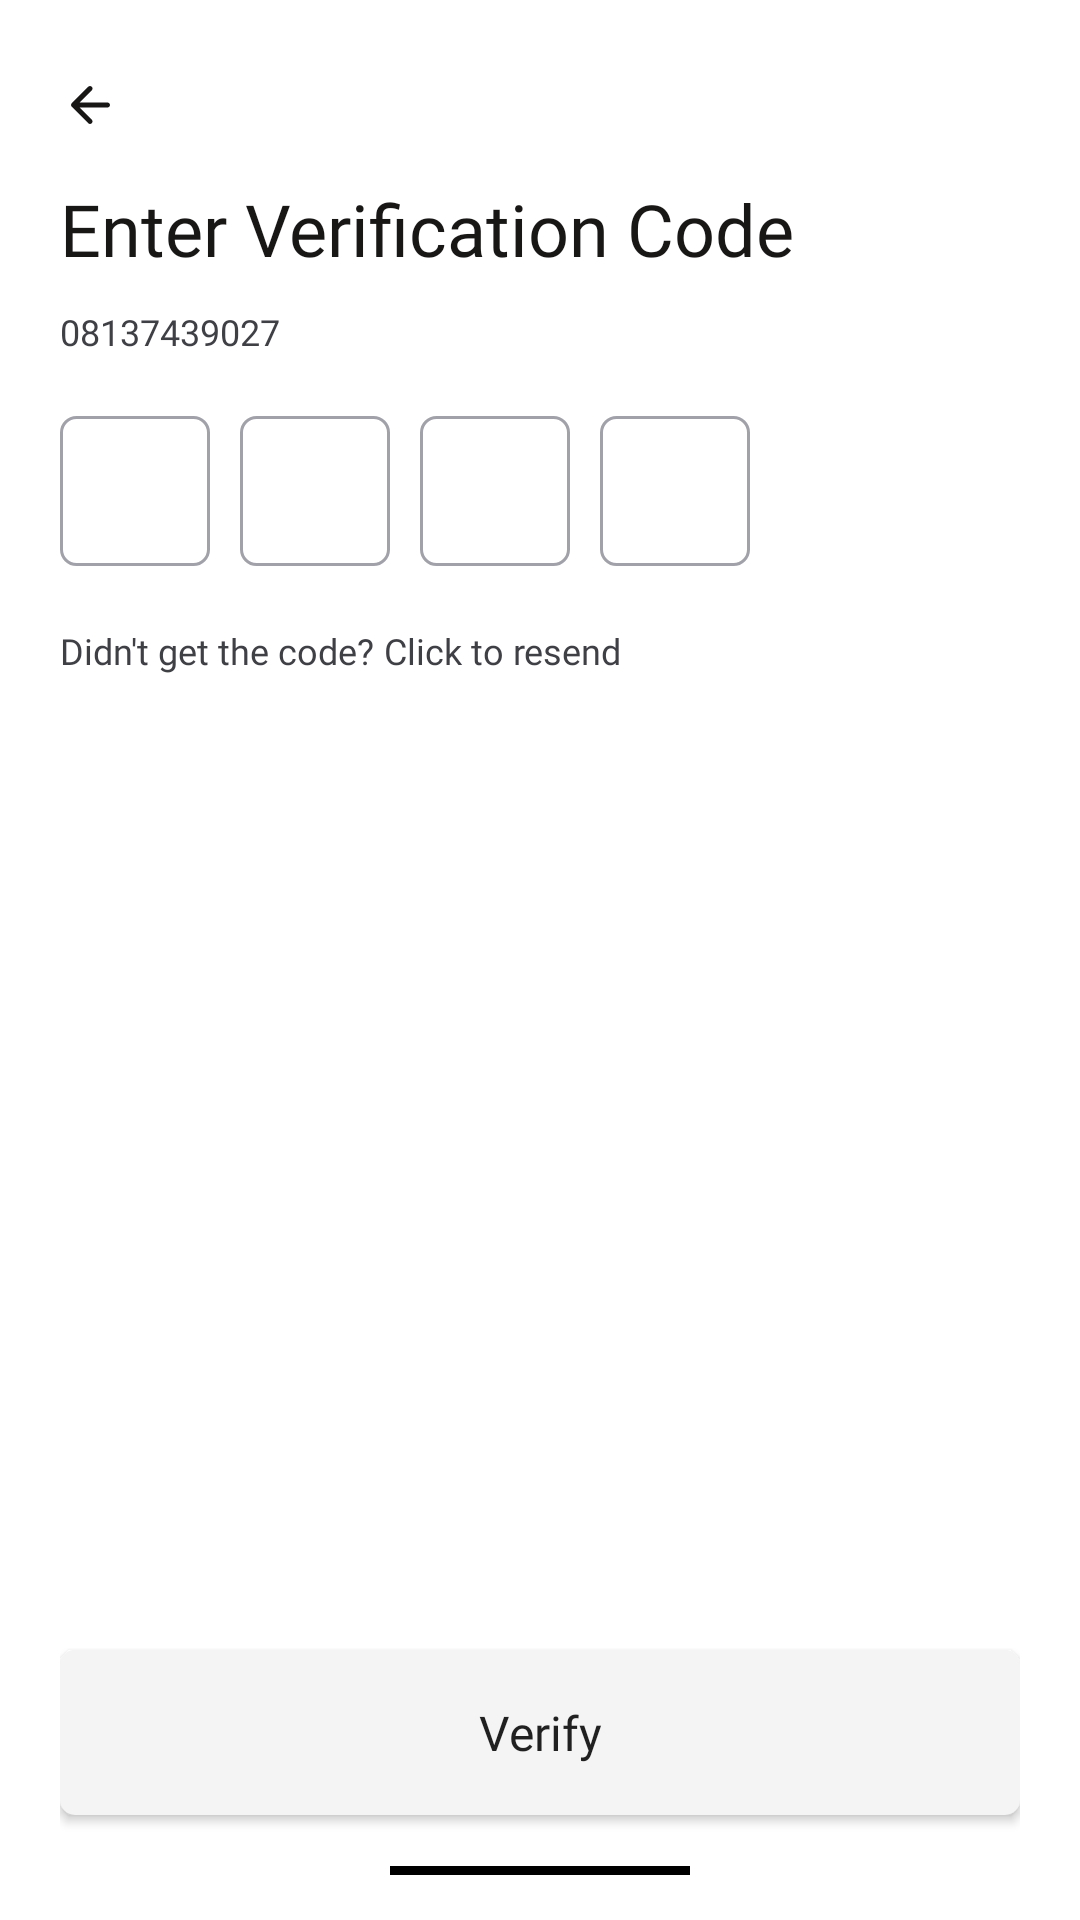

Locate icon controls on the screen. Image size 1080×1920, boxes as [x1=x1, y1=y1, x2=x2, y2=y2].
arrow left: [x1=71, y1=86, x2=110, y2=124]
